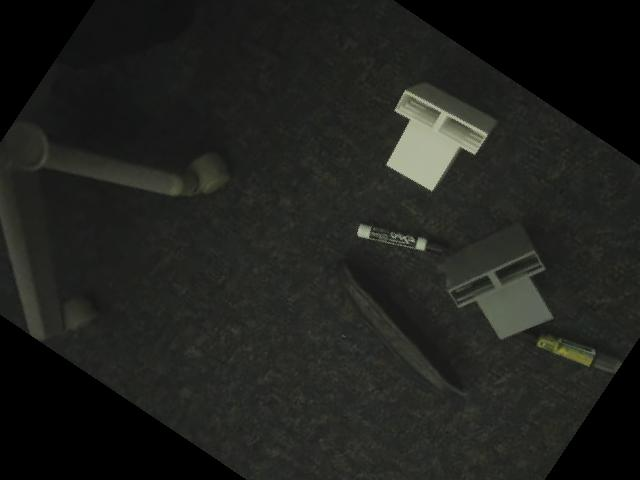grey pallet: (436, 210, 578, 357)
white pallet: (373, 67, 504, 199)
